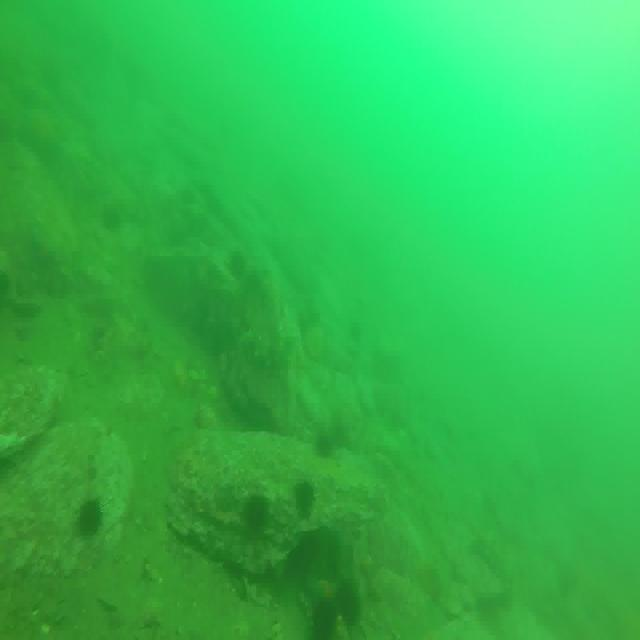echinus: (313, 595, 338, 636), (82, 496, 107, 528), (296, 474, 317, 512), (246, 494, 266, 528), (344, 593, 363, 626), (337, 575, 356, 606)
